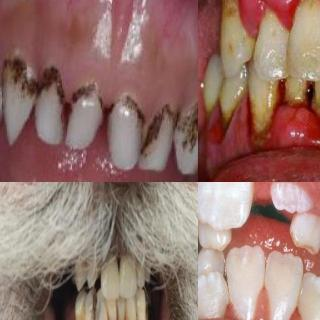Gum Swelling: (198, 95, 320, 157)
calculus: (70, 72, 104, 112), (111, 87, 148, 123), (4, 49, 39, 86), (243, 119, 277, 152), (296, 72, 320, 112), (153, 100, 176, 126), (184, 91, 198, 115), (0, 41, 6, 77), (78, 301, 88, 320), (122, 303, 132, 320), (114, 304, 122, 320), (104, 308, 112, 320), (133, 311, 141, 320)
cavities: (90, 293, 101, 320)
maligned: (277, 196, 320, 260), (200, 206, 242, 256), (198, 269, 237, 320), (198, 247, 226, 301), (298, 268, 320, 320)
stains: (2, 59, 32, 98), (147, 111, 168, 153), (178, 105, 198, 149), (112, 100, 142, 127), (40, 70, 64, 102), (70, 86, 98, 110)
